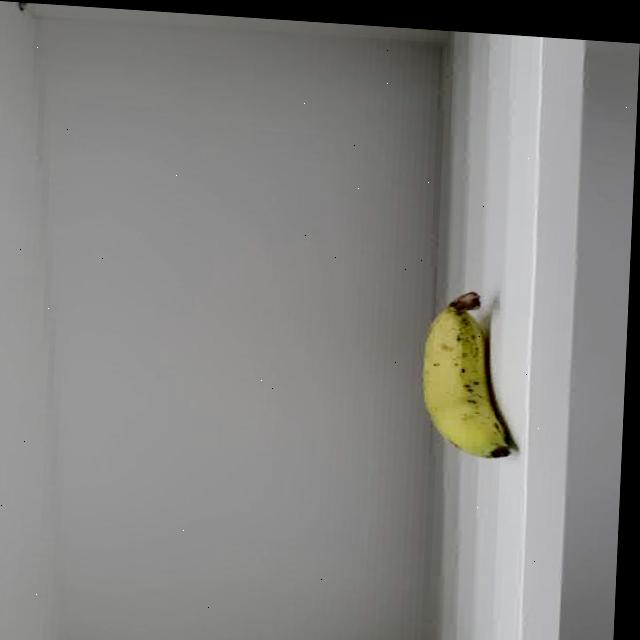banana: (417, 287, 522, 460)
